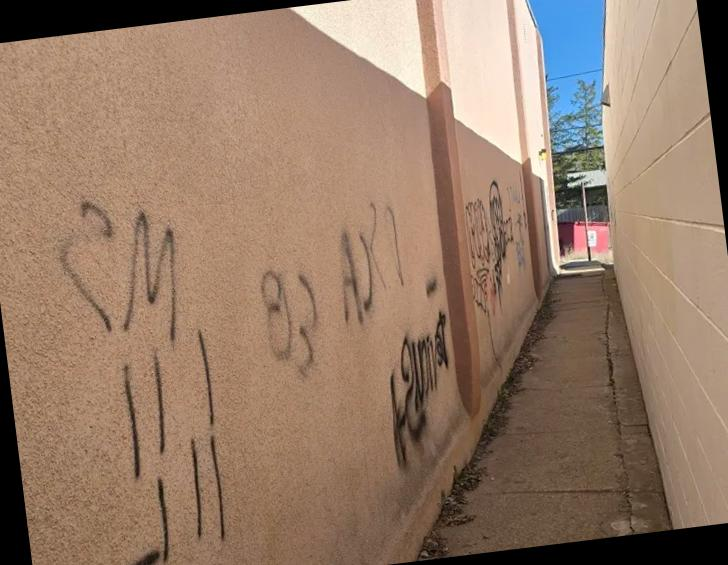graffiti: (30, 184, 250, 565), (234, 197, 429, 394), (356, 303, 466, 477), (453, 177, 546, 361)
